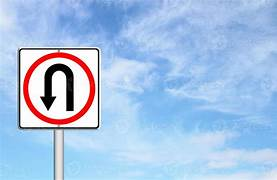back: (17, 45, 101, 131)
